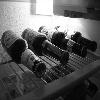beer: (1, 25, 47, 79)
